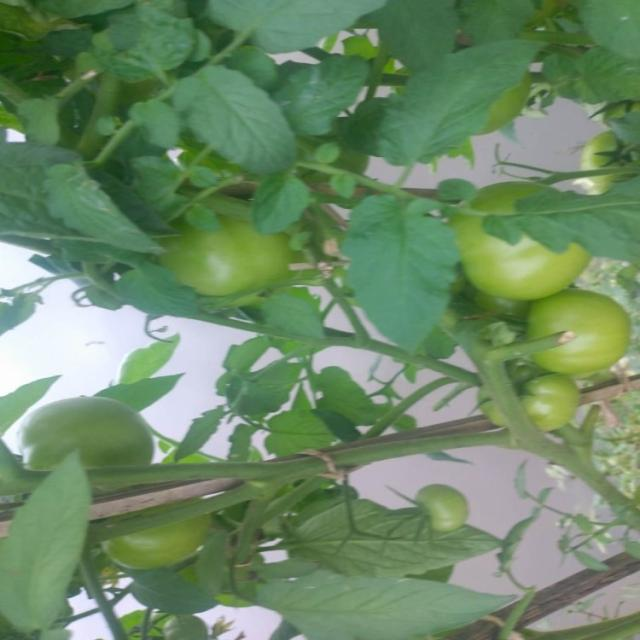tomato: (421, 166, 596, 318), (149, 178, 301, 319), (15, 382, 159, 482), (520, 275, 631, 384), (99, 502, 224, 576), (477, 365, 577, 434), (411, 467, 481, 540), (573, 130, 636, 185)
